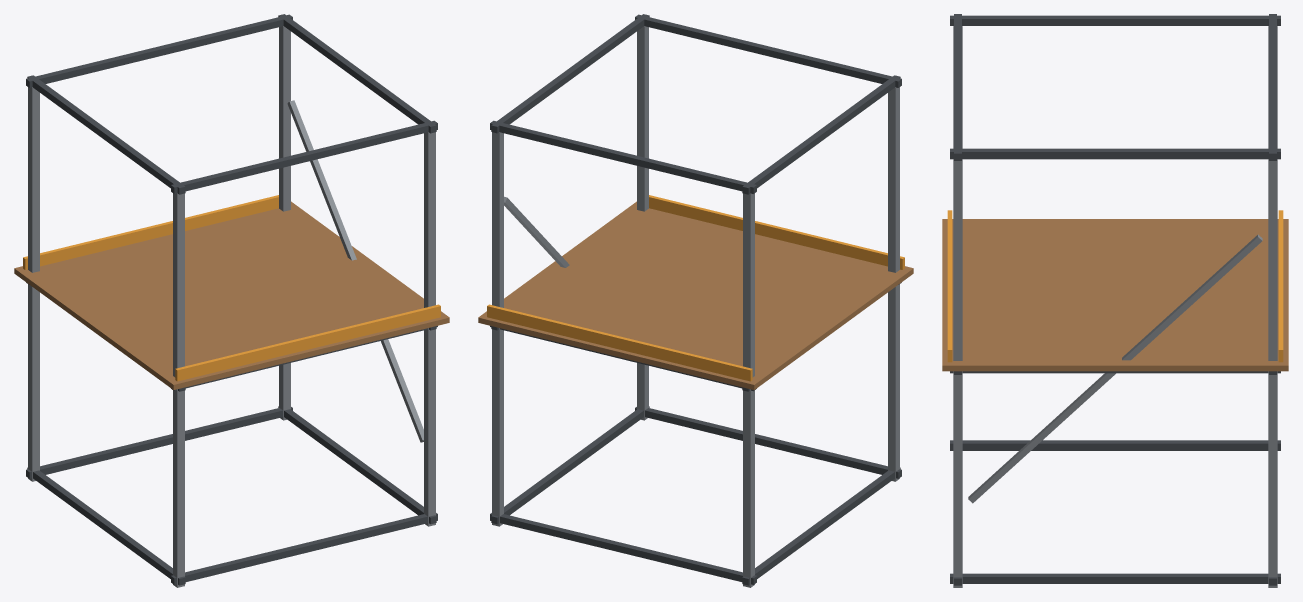
The model's file is prop.scaffold-section.glb.
3 views of the same model, side by side, from view 1: azimuth 30°, elevation 25°; view 2: azimuth 150°, elevation 25°; view 3: azimuth 270°, elevation 25° (orthographic). The views are drawn at different scales.
Parts seen in each view (by area): view 1: prop.scaffold-section; view 2: prop.scaffold-section; view 3: prop.scaffold-section.
Boxes of the visible parts, left/top/right/bottom form: prop.scaffold-section: left=14, top=14, right=449, bottom=587; prop.scaffold-section: left=478, top=14, right=913, bottom=587; prop.scaffold-section: left=942, top=14, right=1288, bottom=587.
Size of the model in its own units: 4.4 by 6.1 by 4.4.
